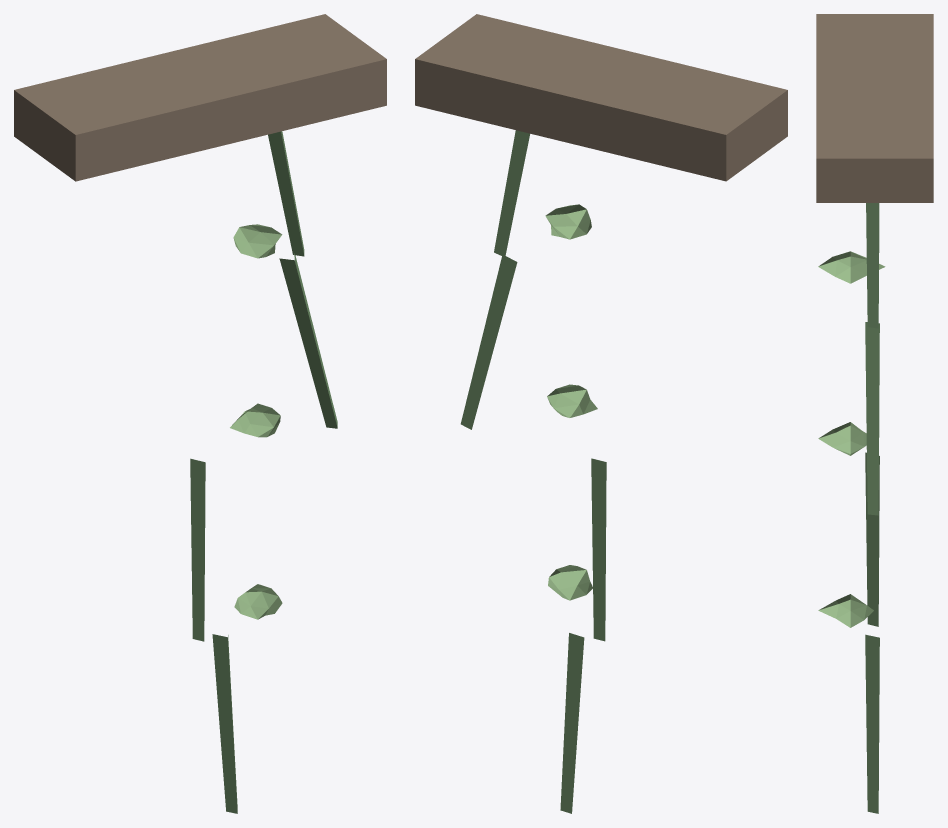
File: vine_v33.glb
The picture shows the model from 3 angles, left to right: view 1: azimuth 30°, elevation 25°; view 2: azimuth 150°, elevation 25°; view 3: azimuth 270°, elevation 25°; orthographic projection. The views are drawn at different scales.
Parts seen in each view (by area): view 1: lod0; view 2: lod0; view 3: lod0.
Part boxes in pixels (x1=…): lod0: x1=14, y1=14, x2=386, y2=813; lod0: x1=415, y1=14, x2=787, y2=813; lod0: x1=816, y1=14, x2=933, y2=813.
Size of what is drawn, in the model's own units: 0.7 by 1.6 by 0.24.
